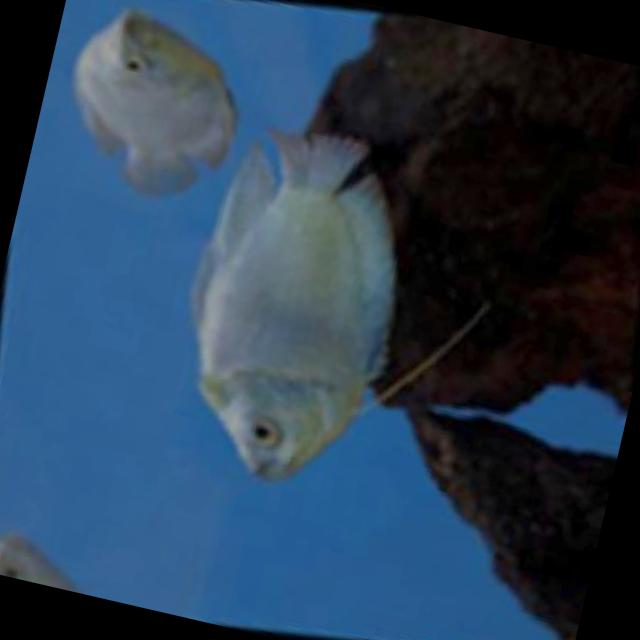Gourami: (148, 104, 431, 499)
